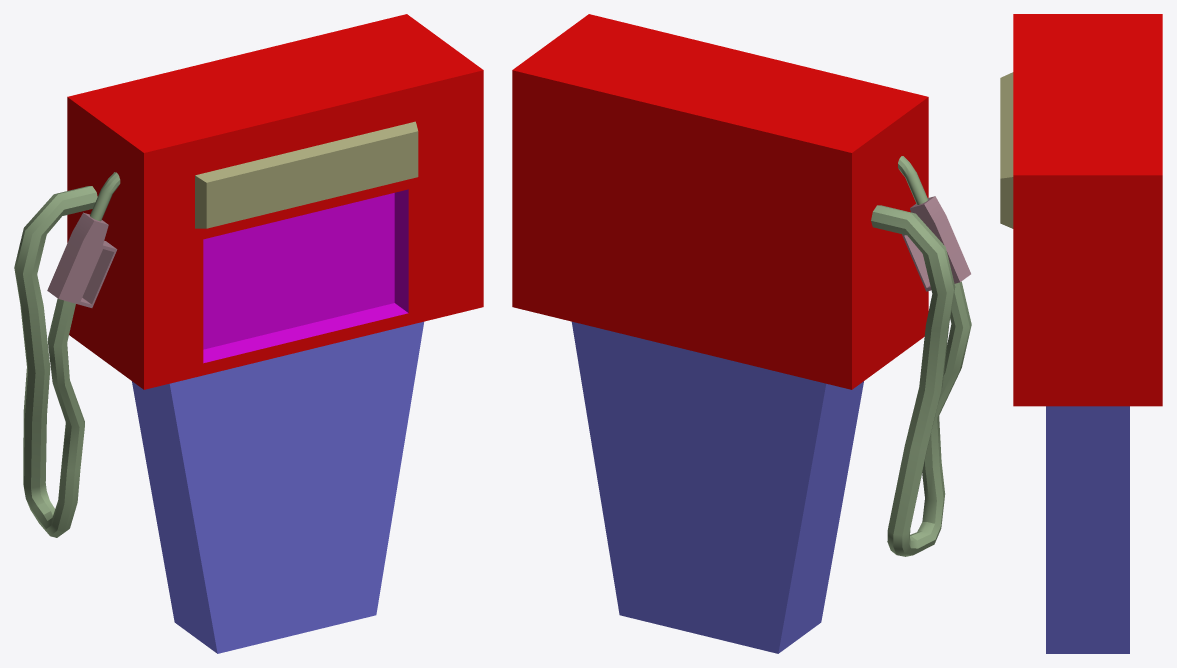
The model's file is MOD_GasPump.fbx.
3 views of the same model, side by side, from view 1: azimuth 30°, elevation 25°; view 2: azimuth 150°, elevation 25°; view 3: azimuth 270°, elevation 25° (orthographic). The views are drawn at different scales.
Parts seen in each view (by area): view 1: pCube55; view 2: pCube55; view 3: pCube55.
Part boxes in pixels (bbox=[...]): pCube55: bbox=[14, 14, 483, 653]; pCube55: bbox=[512, 14, 971, 653]; pCube55: bbox=[1000, 14, 1162, 653].
Size of the model in its own units: 180 by 221 by 62.54.
